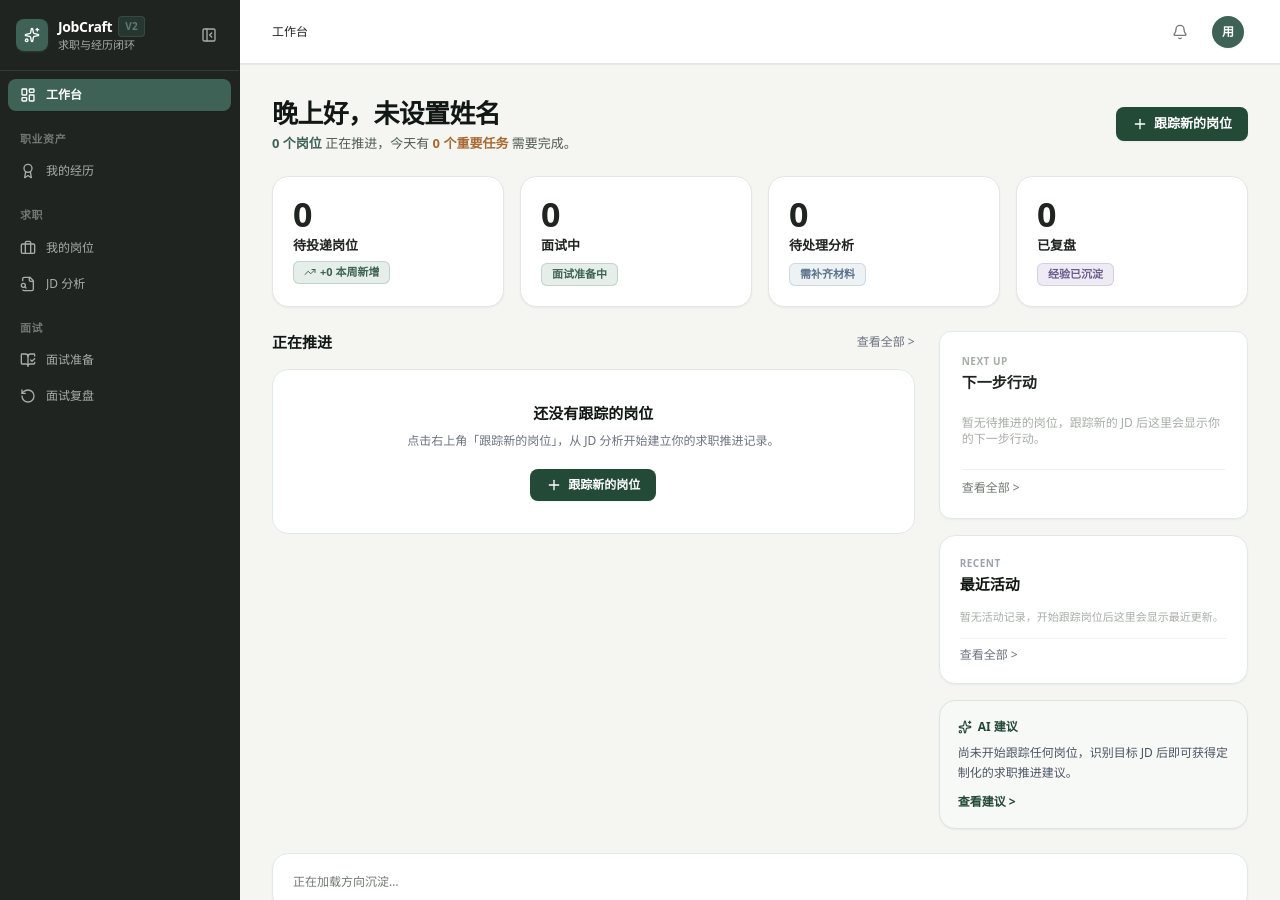
Scenario: FE-ROUTE-03 AppShell 内导航生效（真实路由跳转） › 工作台「查看建议」→ /experiences 经历资产库
Click the button "查看建议 >" at [987, 800], box [958, 790, 1016, 810]
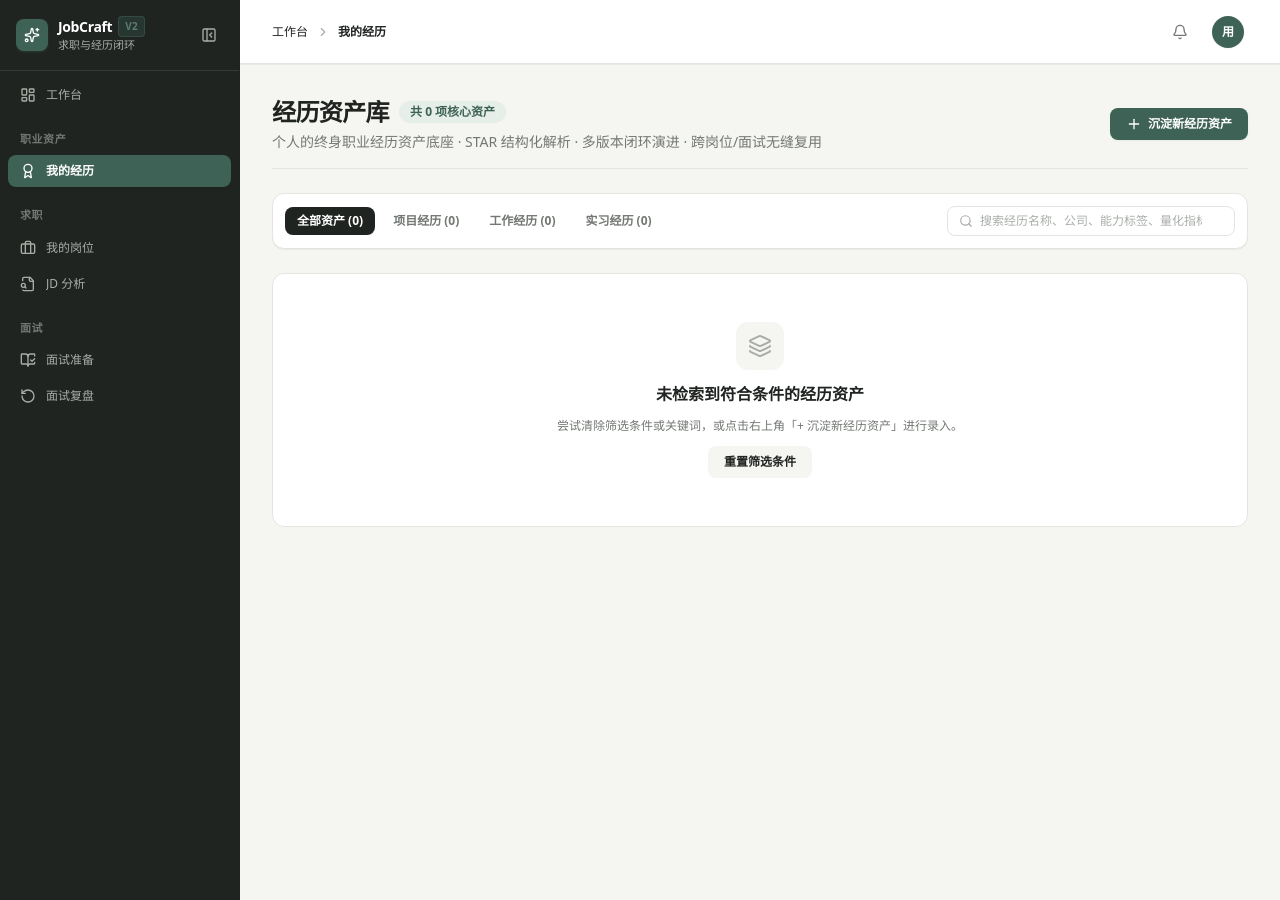
Check: the heading "经历资产库" is shown, box [272, 96, 389, 128]
